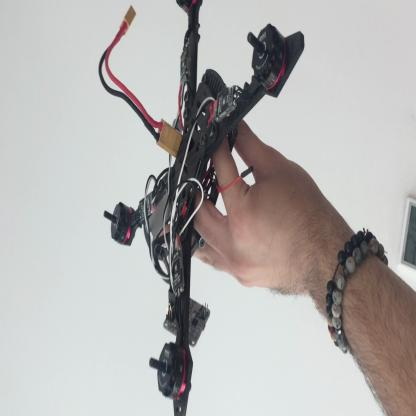drone: (102, 4, 308, 413)
